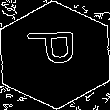P_E: (26, 35, 84, 75)
